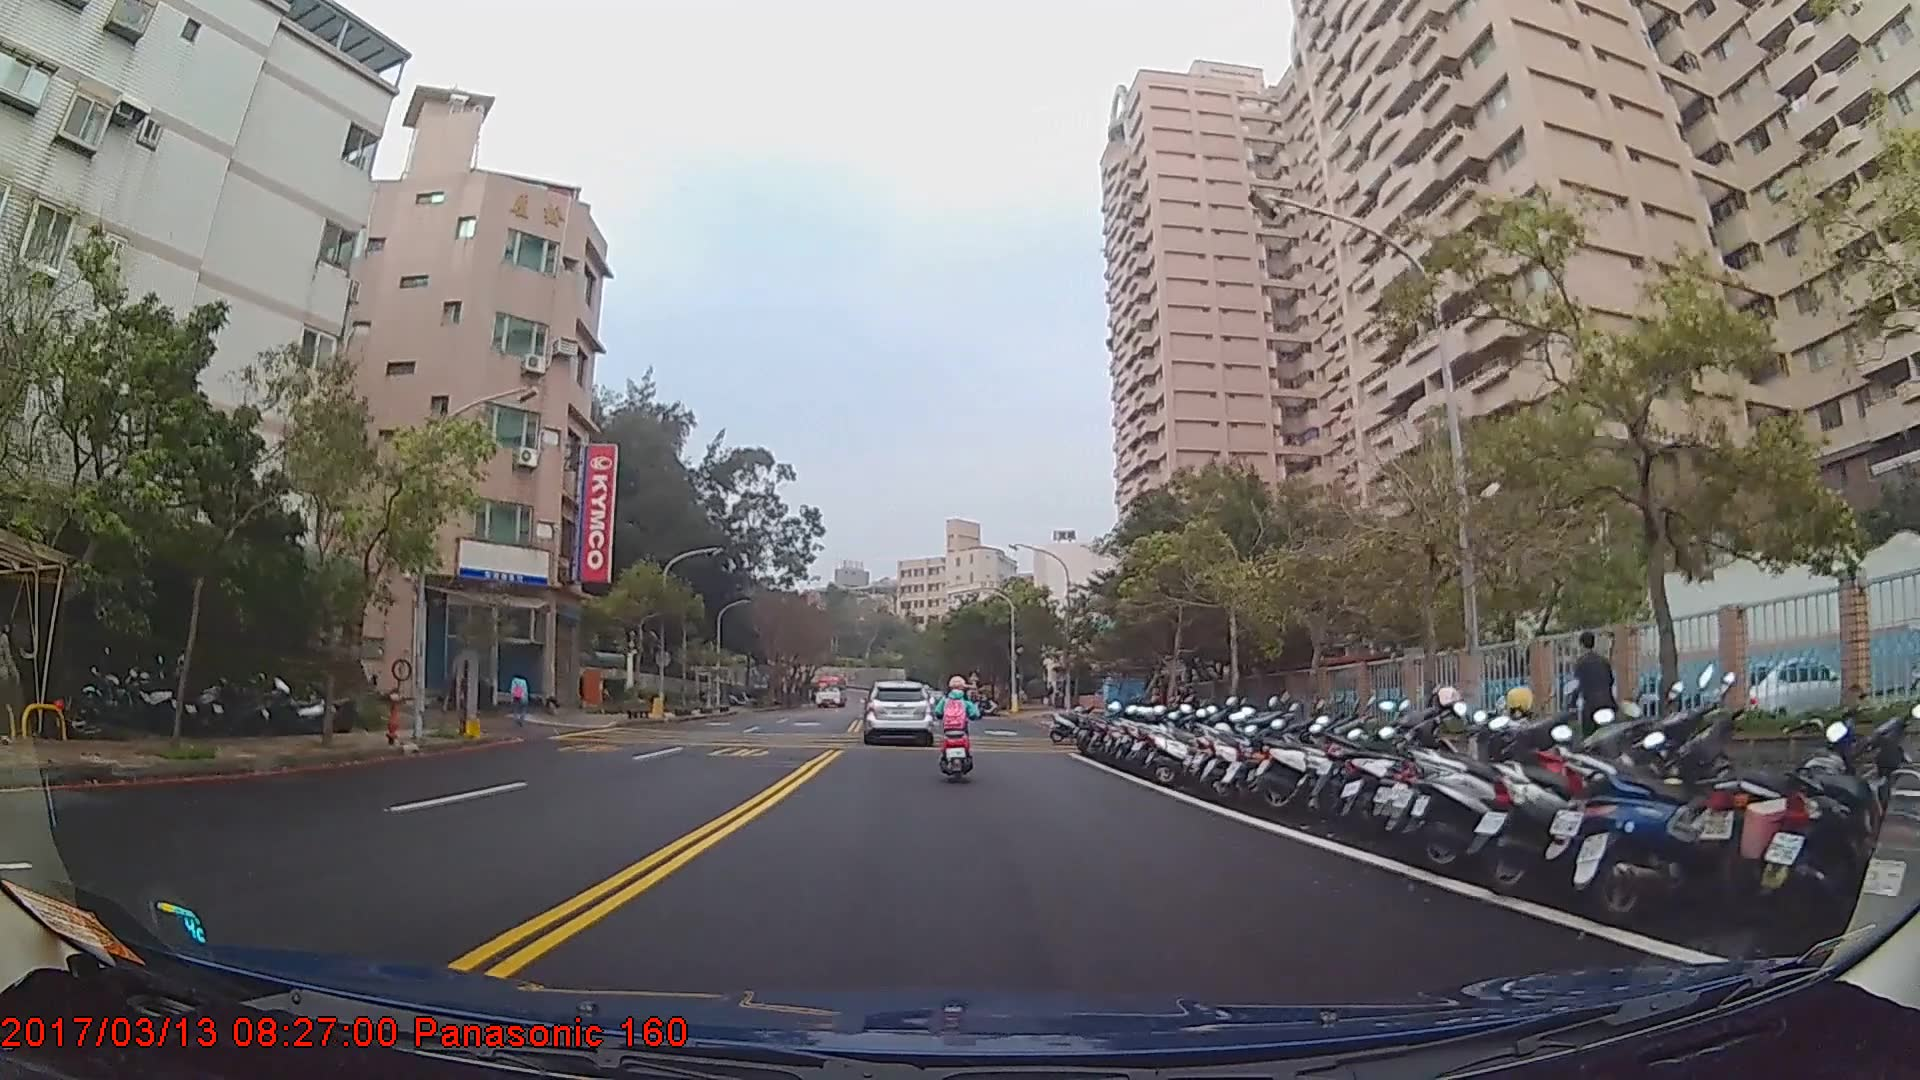pedestrian: (1567, 631, 1615, 772), (1, 615, 21, 744), (510, 668, 531, 729)
rider: (936, 672, 983, 786)
vehicle: (862, 676, 934, 744), (810, 672, 847, 710)
